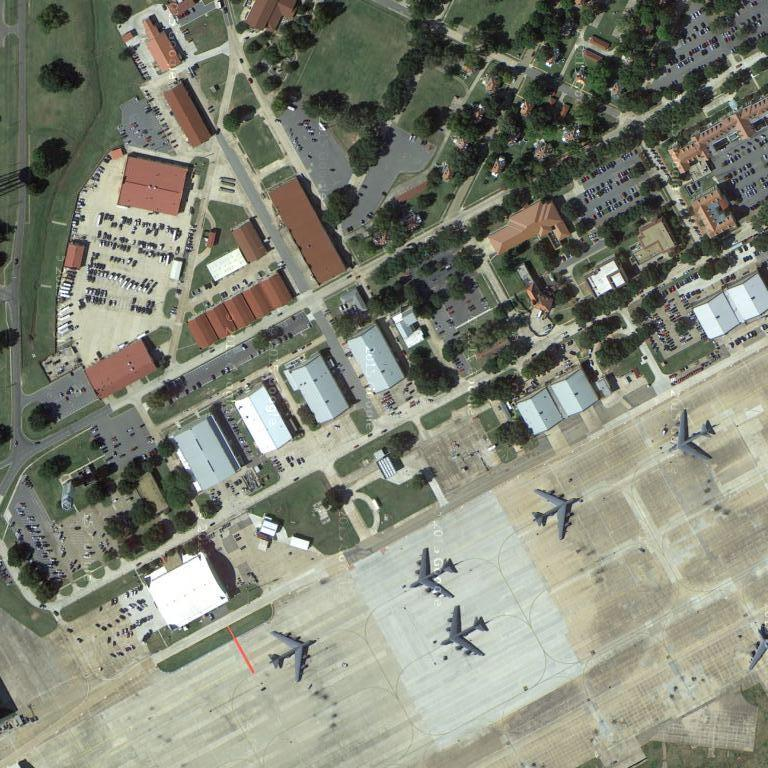B-52: (438, 602, 494, 662), (531, 483, 586, 544), (665, 405, 718, 468), (406, 547, 463, 603), (268, 628, 320, 685)
